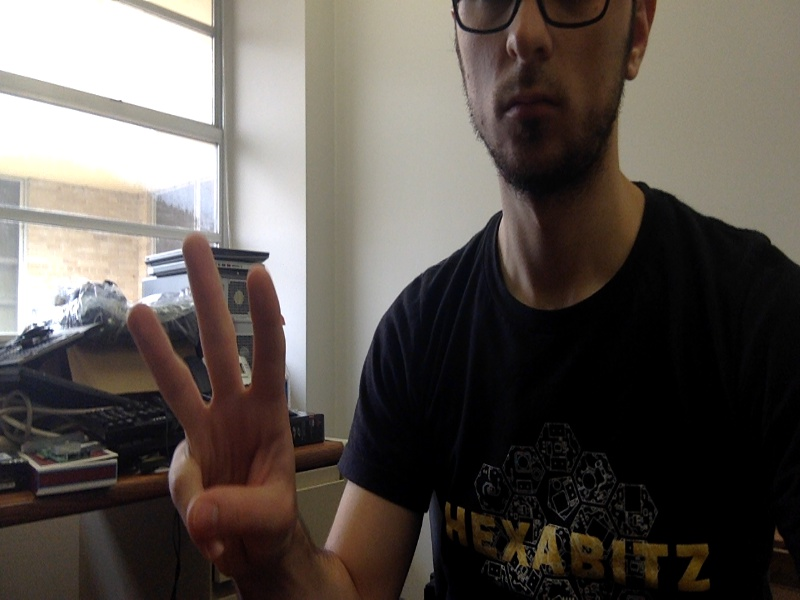3-hand: (127, 233, 296, 600)
